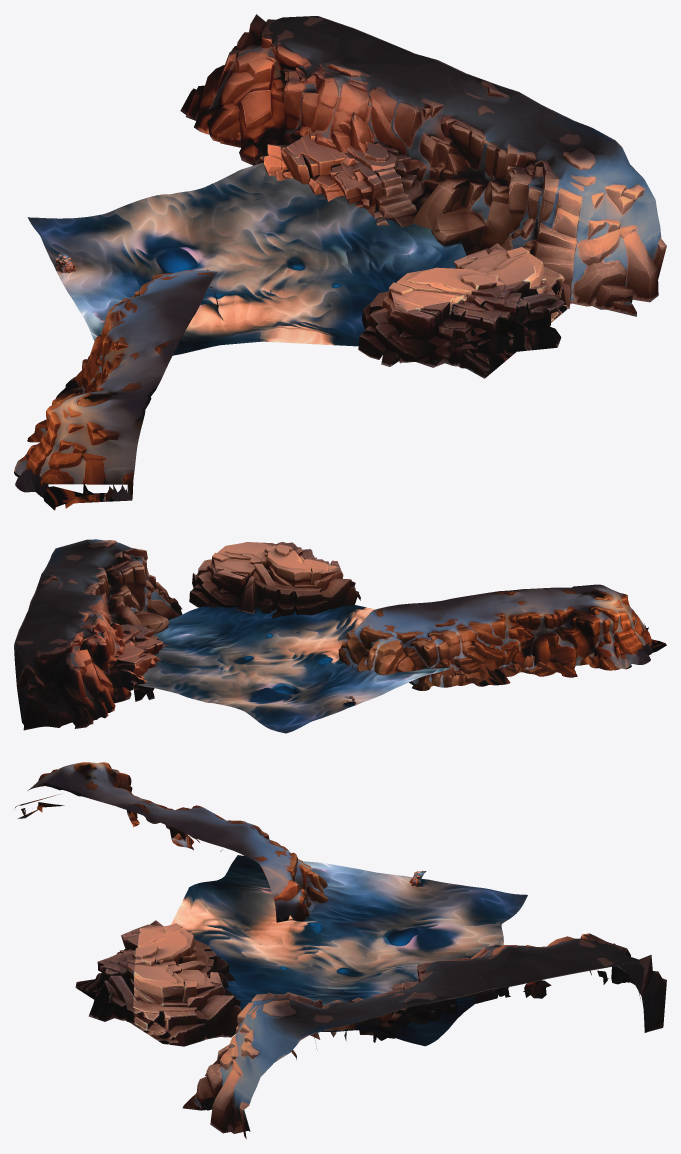
File: scena_06.glb
3 renders of one model, top to bottom at view 1: azimuth 30°, elevation 25°; view 2: azimuth 150°, elevation 25°; view 3: azimuth 270°, elevation 25°, orthographic. The views are drawn at different scales.
Parts seen in each view (by area): view 1: rock_02_scene_6, desert_scene_6, rock_00_scene_7, rock_04_scene_6, rock_01_scene_6, rock_03_scene_6; view 2: rock_00_scene_7, desert_scene_6, rock_02_scene_6, rock_04_scene_6, rock_03_scene_6, rock_01_scene_6; view 3: desert_scene_6, rock_02_scene_6, rock_00_scene_7, rock_03_scene_6, rock_04_scene_6, rock_01_scene_6.
Boxes of the visible parts, x1,y1,x2,y2 form: rock_02_scene_6: (180, 14, 666, 316); desert_scene_6: (27, 162, 466, 355); rock_00_scene_7: (14, 269, 218, 510); rock_04_scene_6: (358, 267, 561, 366); rock_01_scene_6: (255, 128, 430, 227); rock_03_scene_6: (415, 243, 567, 378); rock_00_scene_7: (338, 584, 666, 690); desert_scene_6: (127, 604, 453, 733); rock_02_scene_6: (14, 539, 182, 730); rock_04_scene_6: (237, 542, 360, 618); rock_03_scene_6: (189, 542, 301, 607); rock_01_scene_6: (110, 624, 168, 701); desert_scene_6: (171, 855, 527, 1046); rock_02_scene_6: (182, 933, 666, 1139); rock_00_scene_7: (15, 762, 327, 922); rock_03_scene_6: (75, 956, 240, 1046); rock_04_scene_6: (88, 920, 234, 1030); rock_01_scene_6: (359, 981, 510, 1042).
Size of the model in its own units: 842 by 161 by 755.
6 materials, 6 textured.
